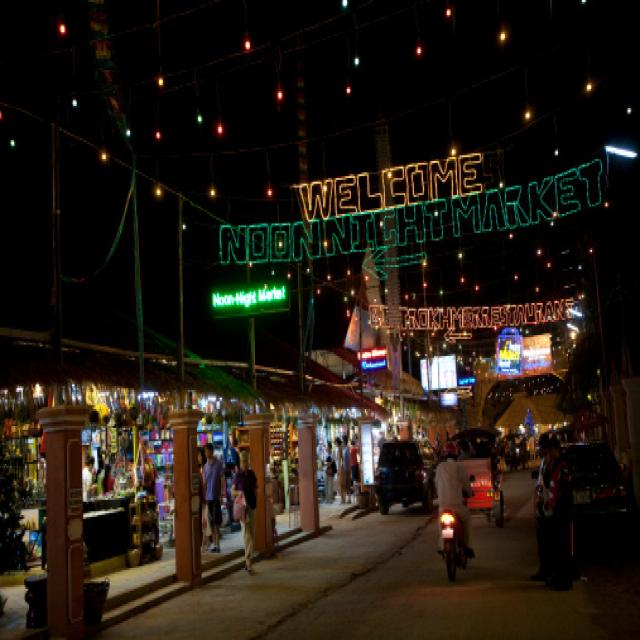Motorbike: (437, 428, 485, 602)
